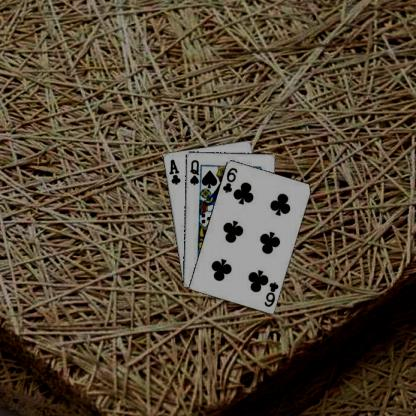6C: (220, 165, 239, 194), (262, 280, 280, 308)
AC: (166, 156, 181, 186)
QS: (187, 157, 200, 186)
